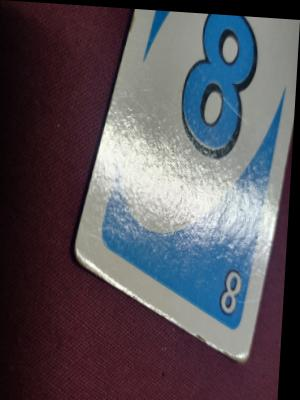num_8: (221, 260, 248, 328)
